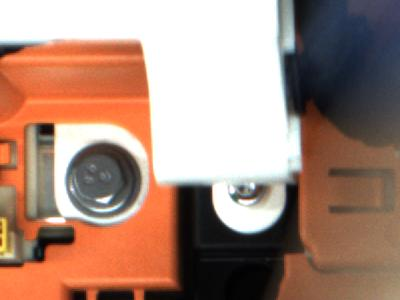nut_b: (59, 142, 144, 218)
